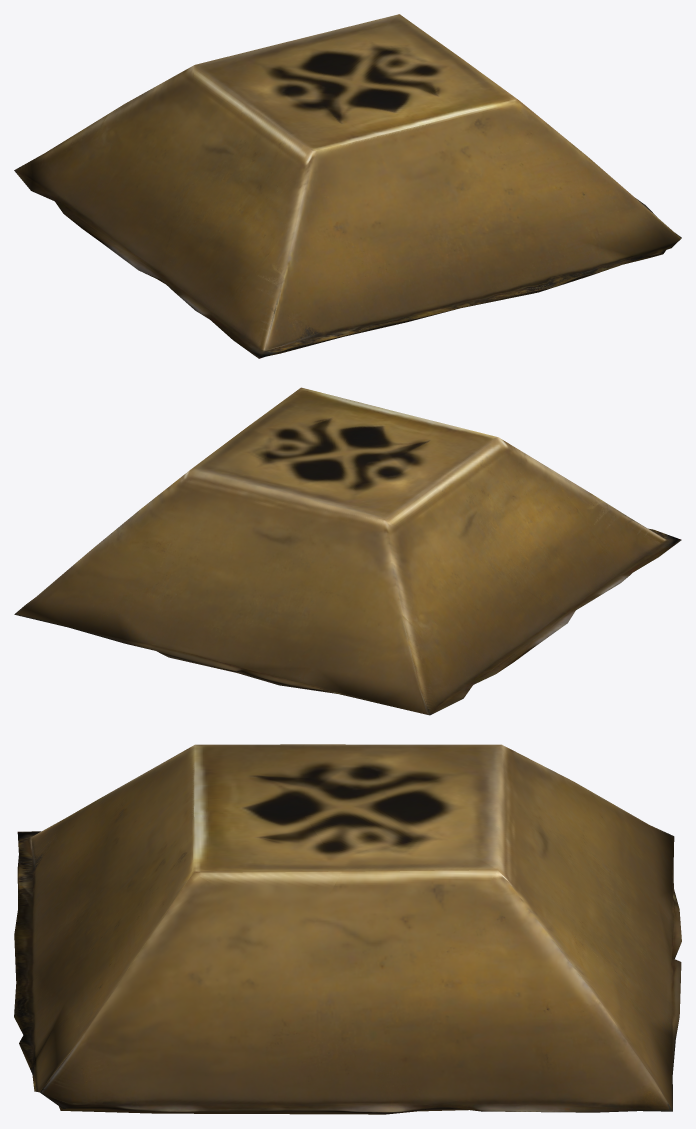
File: Dungeon_FootSwitch.fbx
3 views of the same model, one above another, from view 1: azimuth 30°, elevation 25°; view 2: azimuth 150°, elevation 25°; view 3: azimuth 270°, elevation 25° (orthographic). The views are drawn at different scales.
Visible parts, largest first — view 1: input; view 2: input; view 3: input.
Part boxes in pixels (x1=…): input: x1=14, y1=14, x2=681, y2=358; input: x1=14, y1=387, x2=681, y2=715; input: x1=14, y1=744, x2=681, y2=1114.
Size of the model in its own units: 157 by 50 by 157.
Materials: 1 (1 with a texture image).
